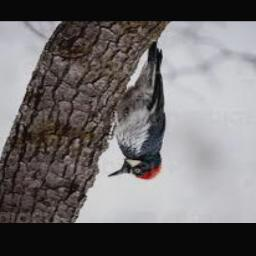Woodpecker: (107, 40, 165, 180)
